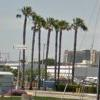Palm tree: (11, 4, 93, 56)
